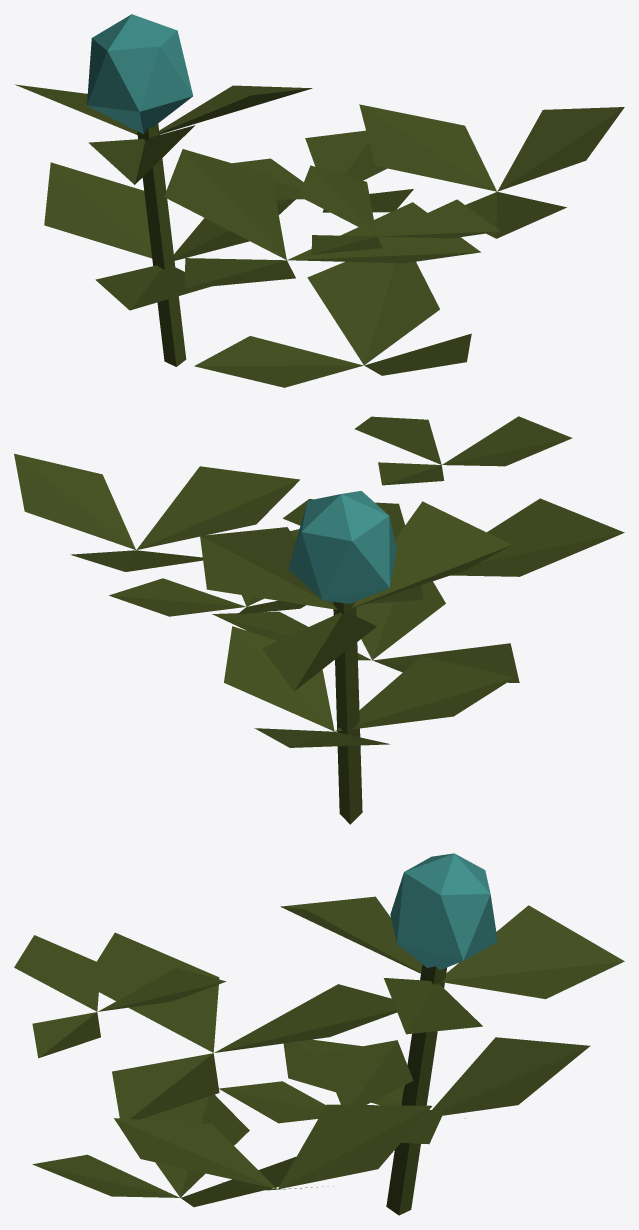
Rendered from SM_Clover_Small_Flowering.fbx.
The picture shows the model from 3 angles, top to bottom: view 1: azimuth 30°, elevation 25°; view 2: azimuth 150°, elevation 25°; view 3: azimuth 270°, elevation 25°; orthographic projection. The views are drawn at different scales.
Parts seen in each view (by area): view 1: clover-small-flowering; view 2: clover-small-flowering; view 3: clover-small-flowering.
Boxes of the visible parts, x1,y1,x2,y2 form: clover-small-flowering: (15,14,624,387); clover-small-flowering: (14,416,624,824); clover-small-flowering: (14,853,624,1215).
Bounding box in the file's own units: 0.3615 × 0.2256 × 0.3565.
